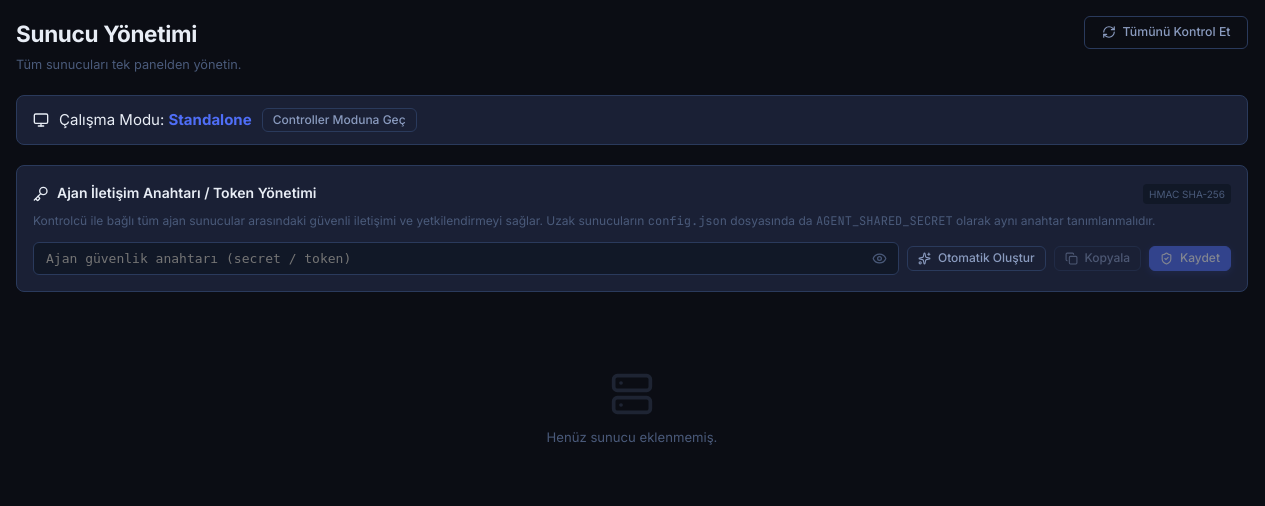
Test: ServerManagement anahtar üretimi › crypto yoksa anahtar üretmez ve hata gösterir
Click the button titled "Yeni rastgele anahtar üret" at (976, 258), box left=907, top=246, right=1046, bottom=271
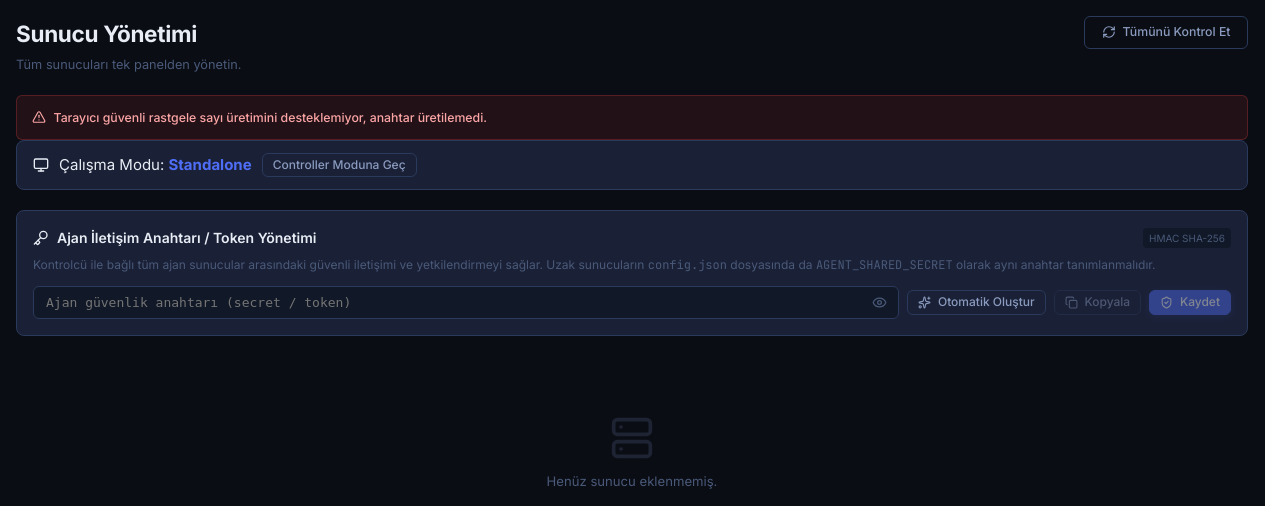
Expected: the password field with placeholder "Ajan güvenlik anahtarı (secret / token)" is empty, left=33, top=286, right=899, bottom=319
Expected: the text "anahtar üretilemedi" is shown, left=54, top=110, right=487, bottom=125
